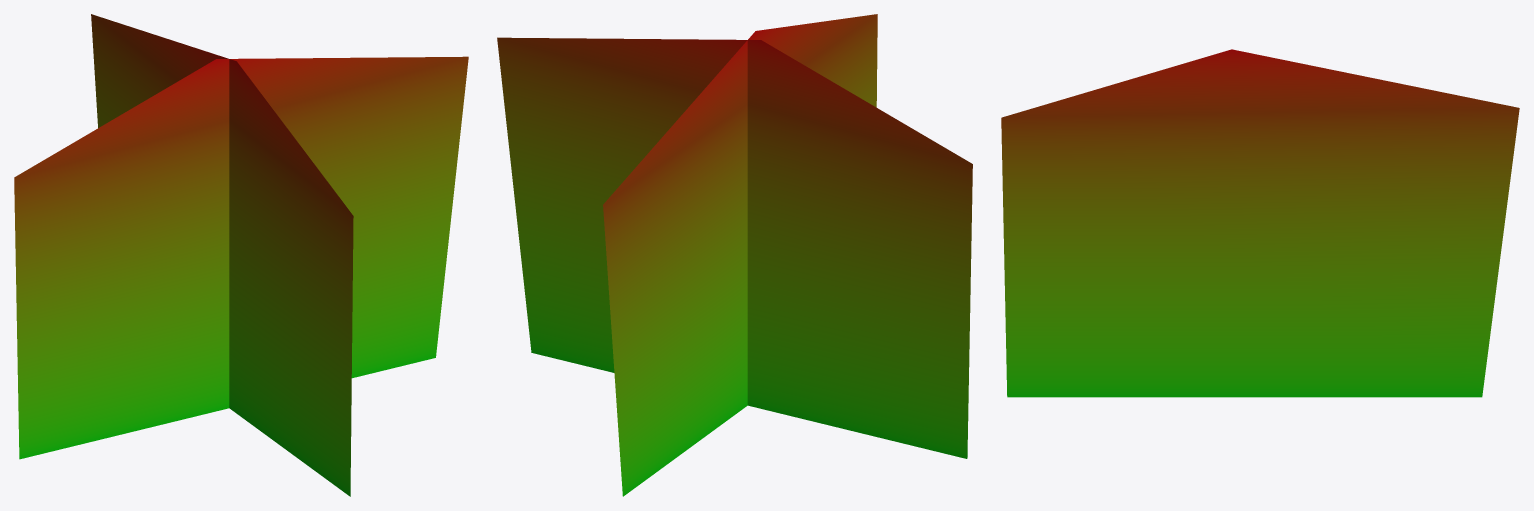
The model's file is Var5_LOD4.fbx.
3 views of the same model, side by side, from view 1: azimuth 30°, elevation 25°; view 2: azimuth 150°, elevation 25°; view 3: azimuth 270°, elevation 25° (orthographic). The views are drawn at different scales.
Visible parts, largest first — view 1: _pu8p_Var5_LOD4; view 2: _pu8p_Var5_LOD4; view 3: _pu8p_Var5_LOD4.
Part boxes in pixels (left/top/right/bottom): _pu8p_Var5_LOD4: left=14, top=14, right=468, bottom=496; _pu8p_Var5_LOD4: left=497, top=14, right=972, bottom=496; _pu8p_Var5_LOD4: left=1001, top=49, right=1519, bottom=397.
Size of the model in its own units: 28.41 by 21.05 by 28.41.
